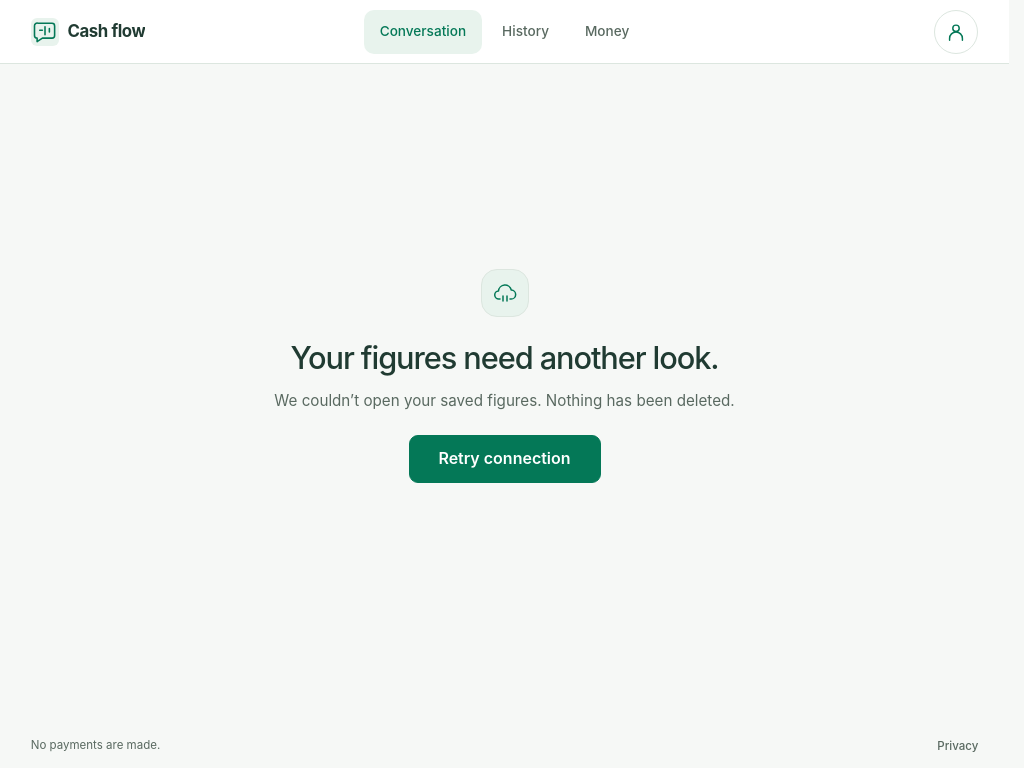
Test: distinguishes unreadable stored state from connectivity and retries without deleting
This screenshot has width=1024, height=768.
Expected: the element "Your figures need another look." shows "Nothing has been deleted.", [274,391,735,410]
Expected: the button "Start conversation" is not shown
Click the button "Retry connection": {"x": 504, "y": 459} [408,435,600,483]
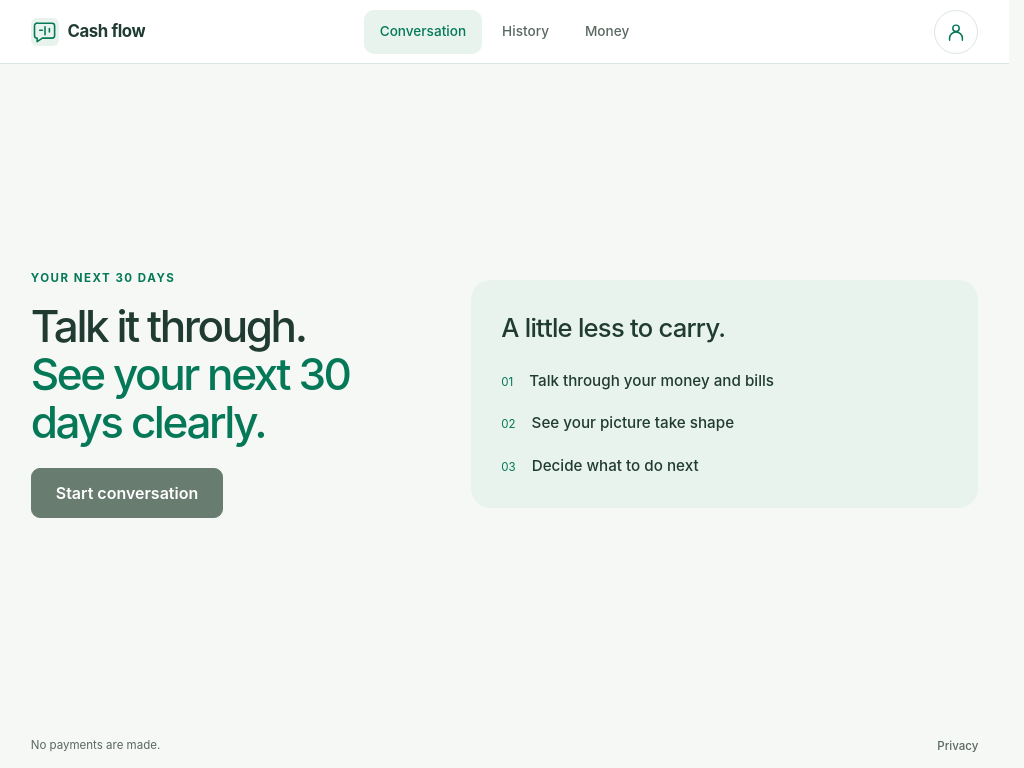
Now the button "Start conversation" is shown, box [31,468,223,518]
